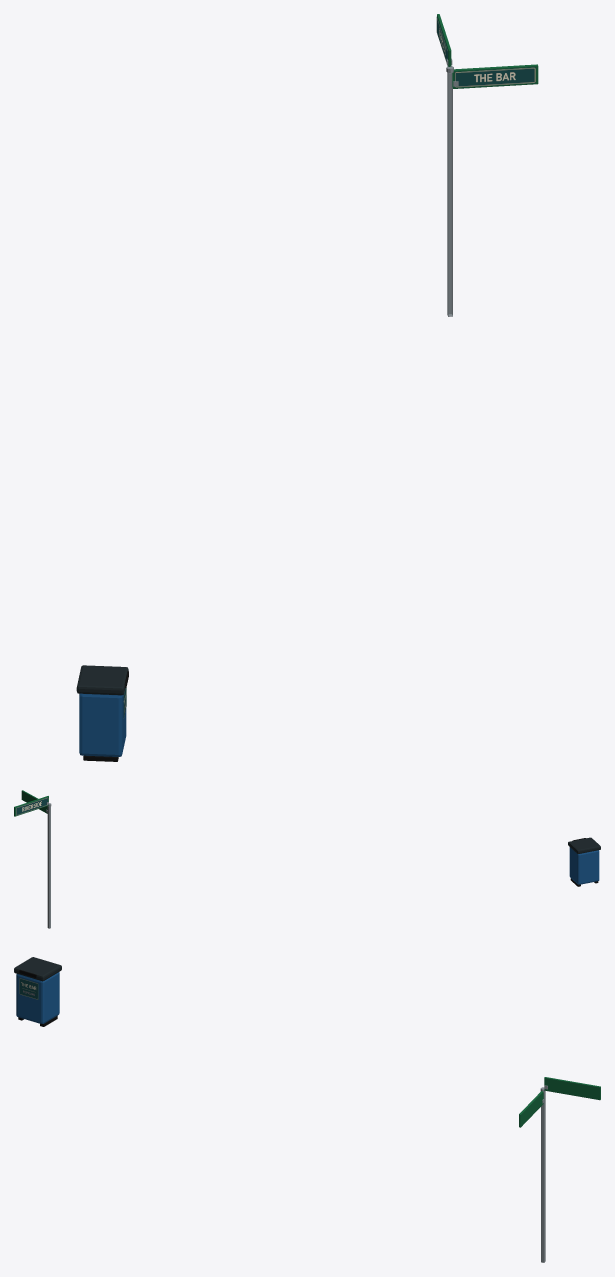
The model's file is bar-street.glb.
The picture shows the model from 3 angles, top to bottom: view 1: azimuth 30°, elevation 25°; view 2: azimuth 150°, elevation 25°; view 3: azimuth 270°, elevation 25°; orthographic projection. The views are drawn at different scales.
Parts seen in each view (by area): view 1: geometry_0d9374aefdb2d, geometry_0, geometry_287644b59ab6d, geometry_2; view 2: geometry_0d9374aefdb2d, geometry_0, geometry_287644b59ab6d, geometry_1, geometry_3; view 3: geometry_0d9374aefdb2d, geometry_1, geometry_0, geometry_287644b59ab6d.
Part boxes in pixels (box(x1,y1,x2,y2)): geometry_0d9374aefdb2d: box(79, 693, 126, 756); geometry_0: box(446, 58, 458, 316); geometry_287644b59ab6d: box(76, 665, 128, 695); geometry_2: box(454, 67, 535, 87); geometry_0d9374aefdb2d: box(569, 847, 599, 884); geometry_0: box(46, 802, 51, 928); geometry_287644b59ab6d: box(568, 837, 600, 853); geometry_1: box(14, 790, 48, 816); geometry_3: box(16, 797, 48, 815); geometry_0d9374aefdb2d: box(16, 972, 59, 1023); geometry_1: box(519, 1077, 600, 1127); geometry_0: box(540, 1085, 547, 1262); geometry_287644b59ab6d: box(14, 957, 61, 981).
Size of the model in its own units: 10.75 by 3.36 by 9.65.
Materials: 8 (3 with a texture image).
